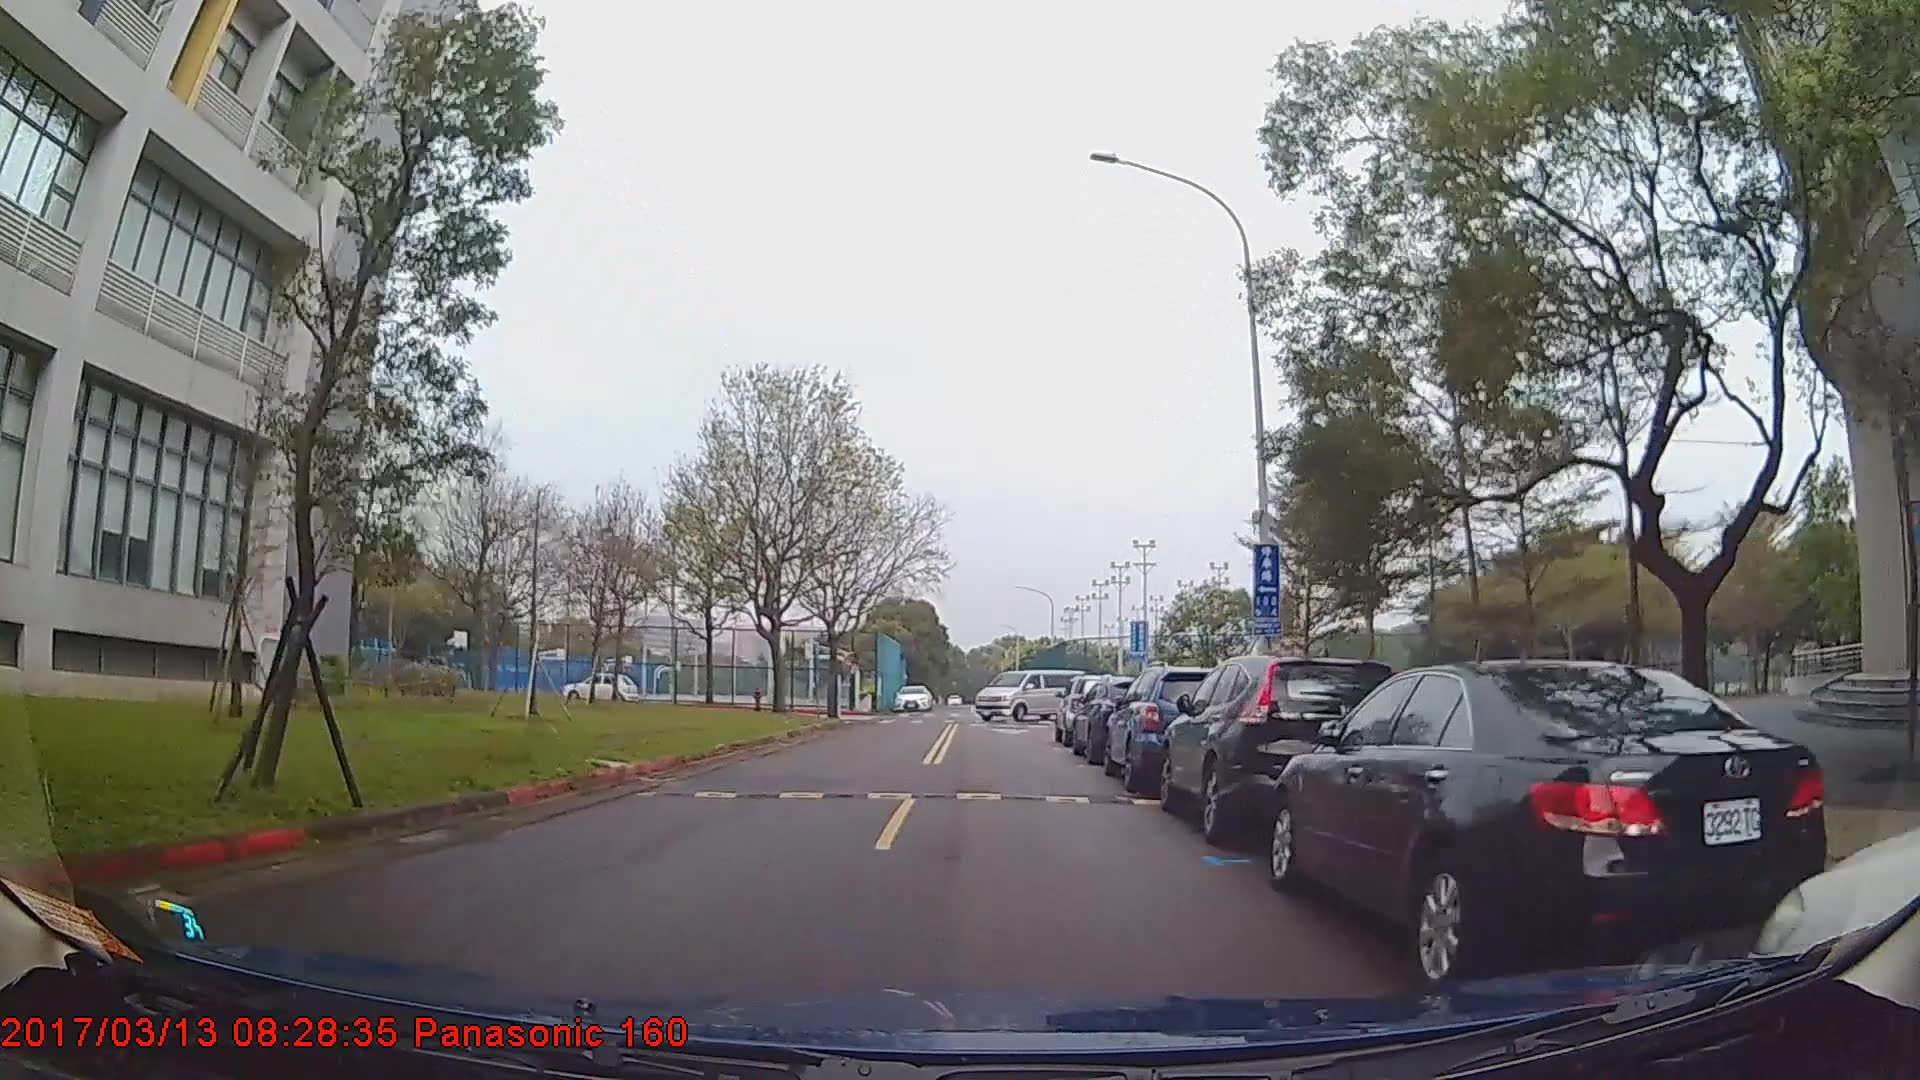vehicle: (1269, 655, 1829, 996), (1156, 651, 1403, 843), (1102, 663, 1233, 790), (975, 669, 1087, 720), (560, 671, 640, 703), (891, 683, 934, 712)
